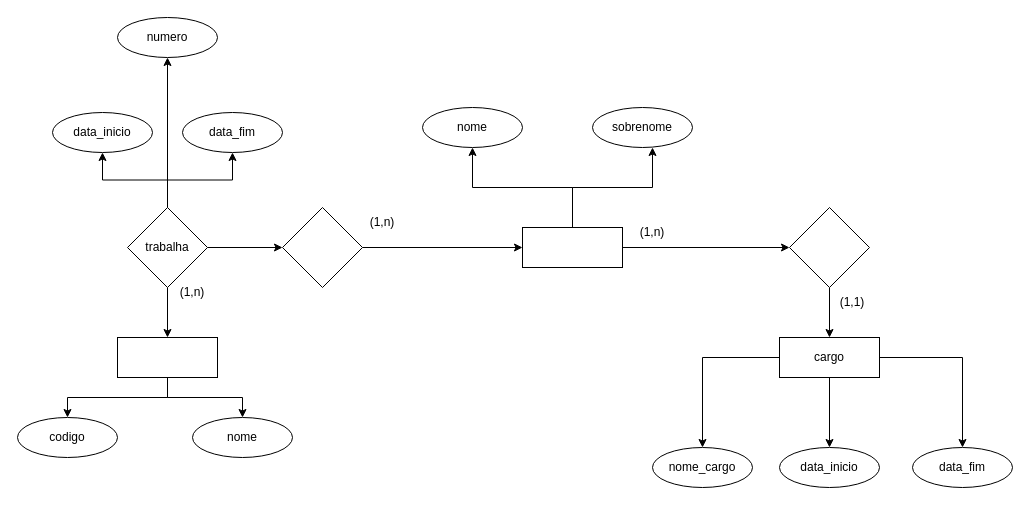
Some shapes in this 1030 by 505 pixel diagram are drawn without their labels. The shapes that lost their labels are listed below. From the top down, each one's centre as x and y in pixels, then its label:
the point at 322,247: tem
the point at 572,247: Funcionário
the point at 829,247: ocupa
the point at 167,357: Departamento
